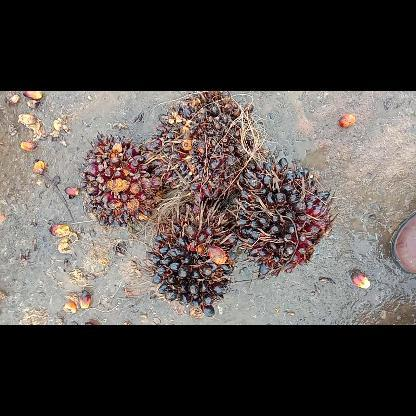TBS abnormal: (223, 154, 339, 283), (144, 200, 240, 318)
TBS masak: (148, 91, 268, 203), (76, 128, 174, 228)
